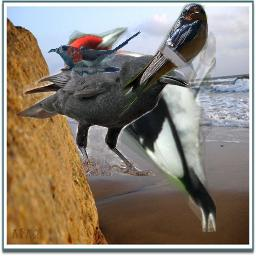Crow: (15, 54, 191, 176)
Cuckoo: (48, 30, 143, 77)
Swallow: (118, 3, 208, 117)
Woodpecker: (64, 27, 216, 232)
